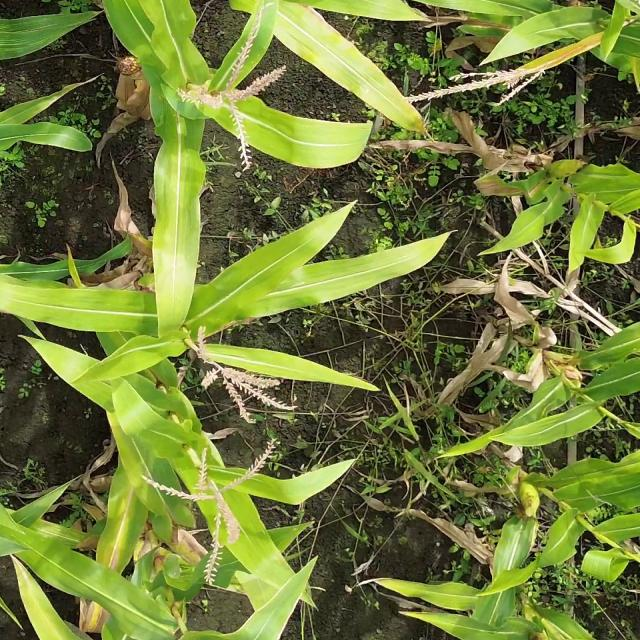gray-leaf-spot: (8, 21, 94, 59), (34, 519, 94, 566)
northern-leaf-blight: (95, 500, 146, 588)
